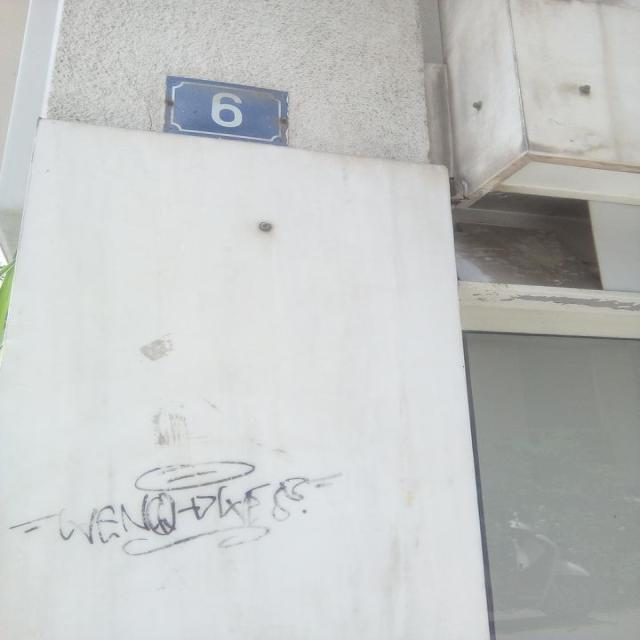nonspitting: (9, 460, 344, 556)
